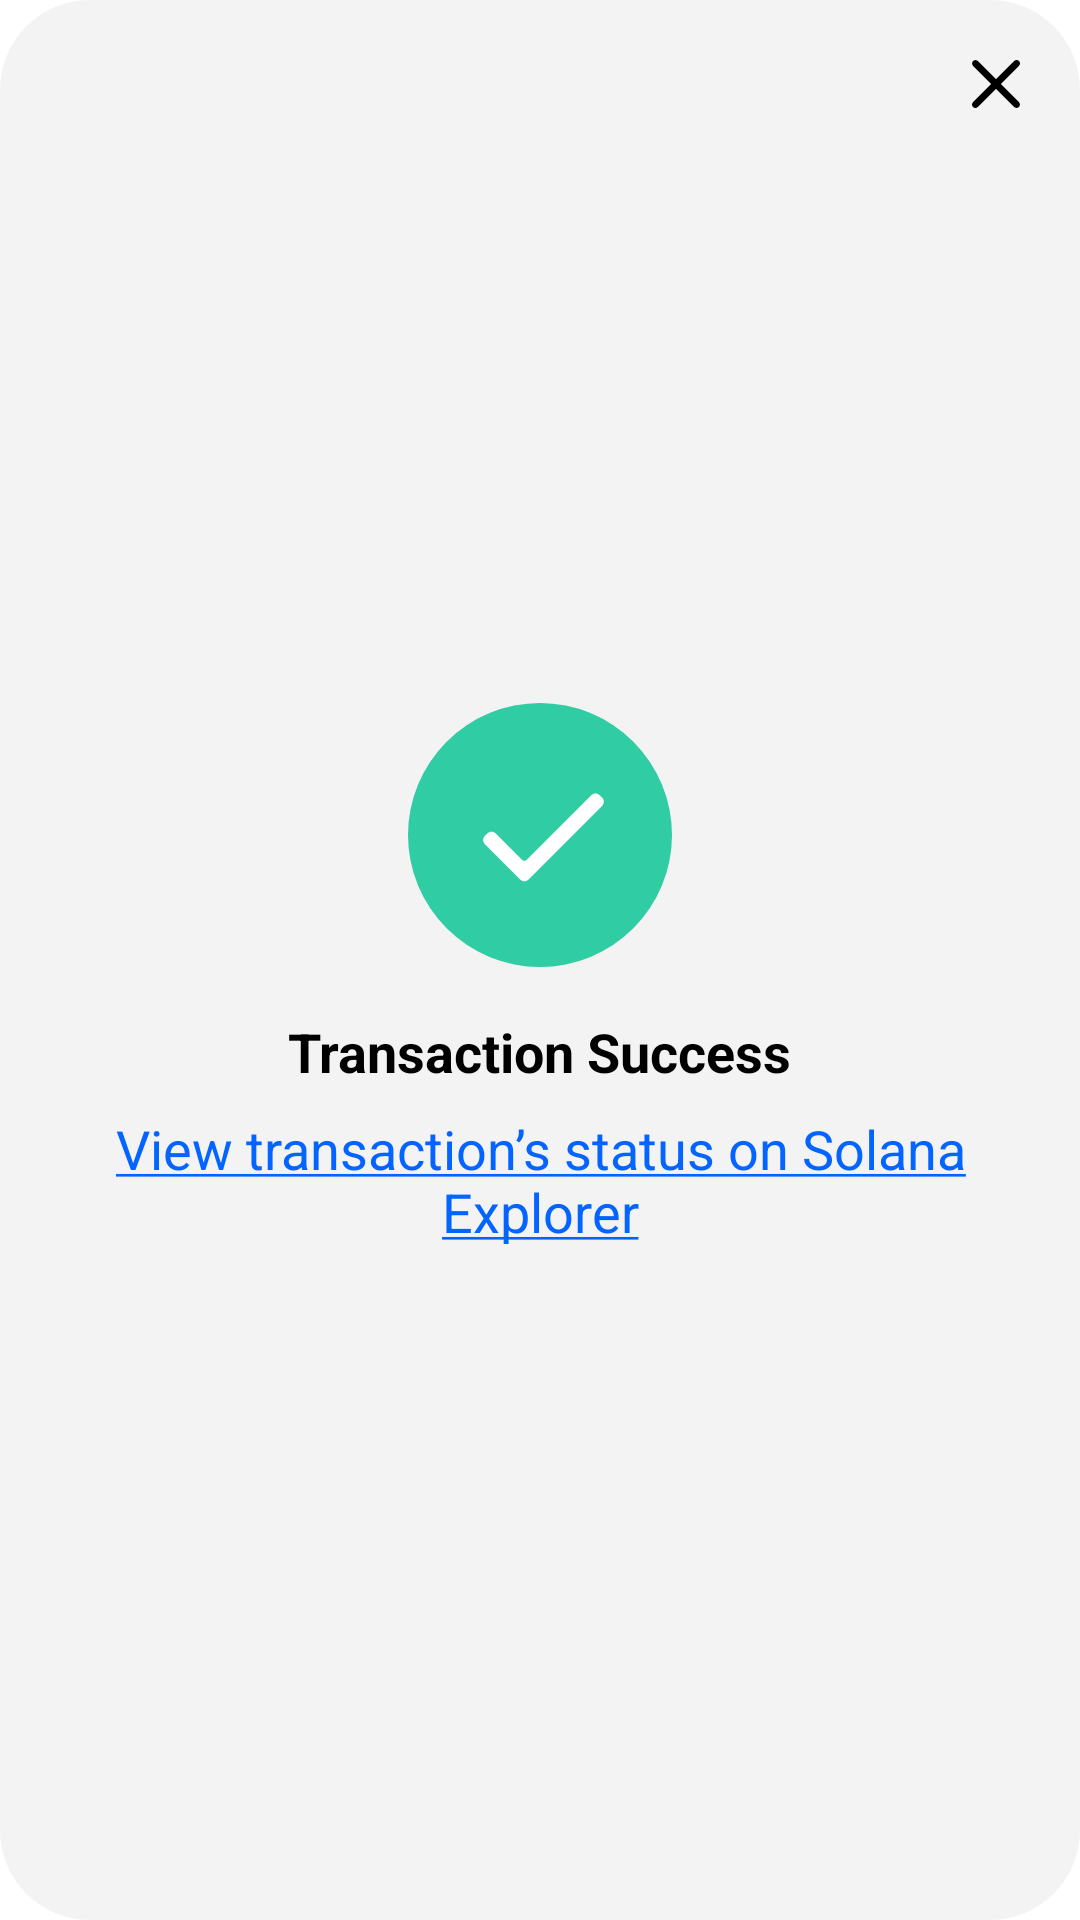

Where icons sit on this 1080w x 1920h app screen, as (x1, y1, x2, y2):
close: (972, 60, 1020, 108)
